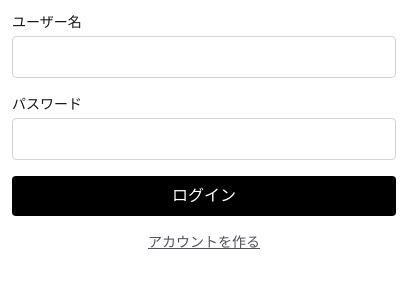
Test: LoginForm › ログイン失敗時はエラーメッセージを表示し、遷移しない
Step 1. Type "testuser" into the field labelled "ユーザー名" → (204,57), box [12, 36, 396, 78]
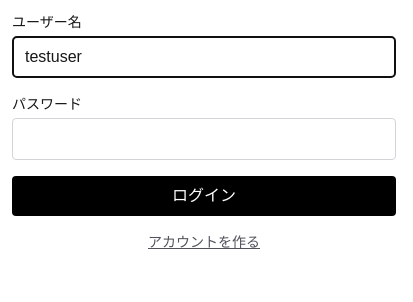
Step 2. Type "wrongpass" into the password field labelled "パスワード" → (204,139), box [12, 118, 396, 160]
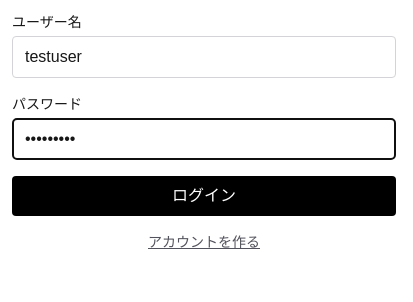
Step 3. Click the button "ログイン" → (204,196), box [12, 176, 396, 216]
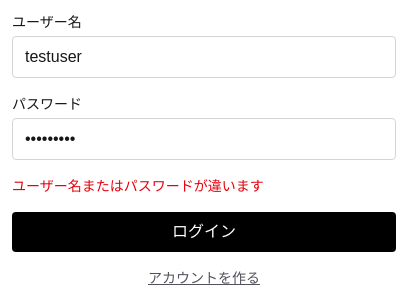
Now the text "ユーザー名またはパスワードが違います" is shown, box [12, 178, 264, 194]
